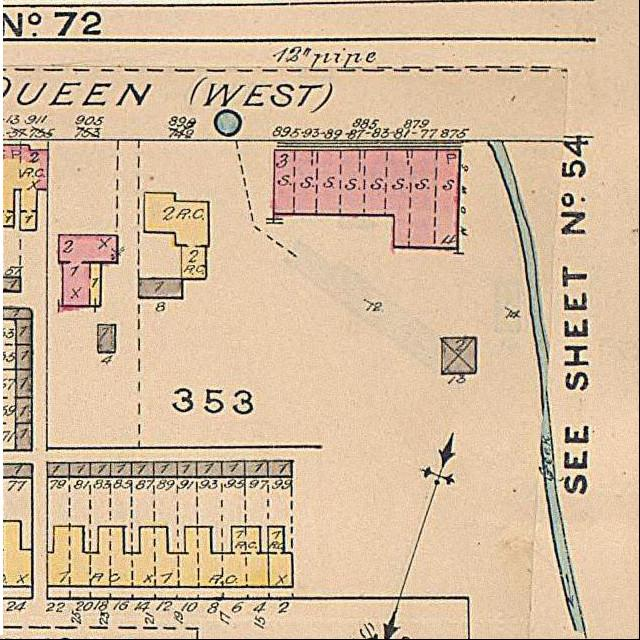building-footprints: (274, 151, 460, 249), (48, 527, 269, 588), (145, 193, 209, 280), (59, 235, 118, 307), (3, 146, 48, 231), (4, 522, 33, 587), (268, 527, 293, 588), (442, 338, 477, 374), (139, 279, 183, 299), (98, 325, 116, 354), (17, 370, 33, 399), (16, 424, 33, 451), (16, 398, 33, 424), (16, 319, 32, 346), (16, 345, 32, 371), (4, 464, 33, 478), (245, 462, 269, 478), (269, 461, 293, 477), (198, 462, 223, 477), (154, 463, 178, 478), (222, 462, 246, 477), (69, 463, 91, 478), (132, 463, 154, 478), (4, 309, 33, 320), (111, 463, 132, 478), (177, 463, 198, 478), (48, 463, 70, 477), (91, 463, 111, 478), (3, 277, 21, 293)
